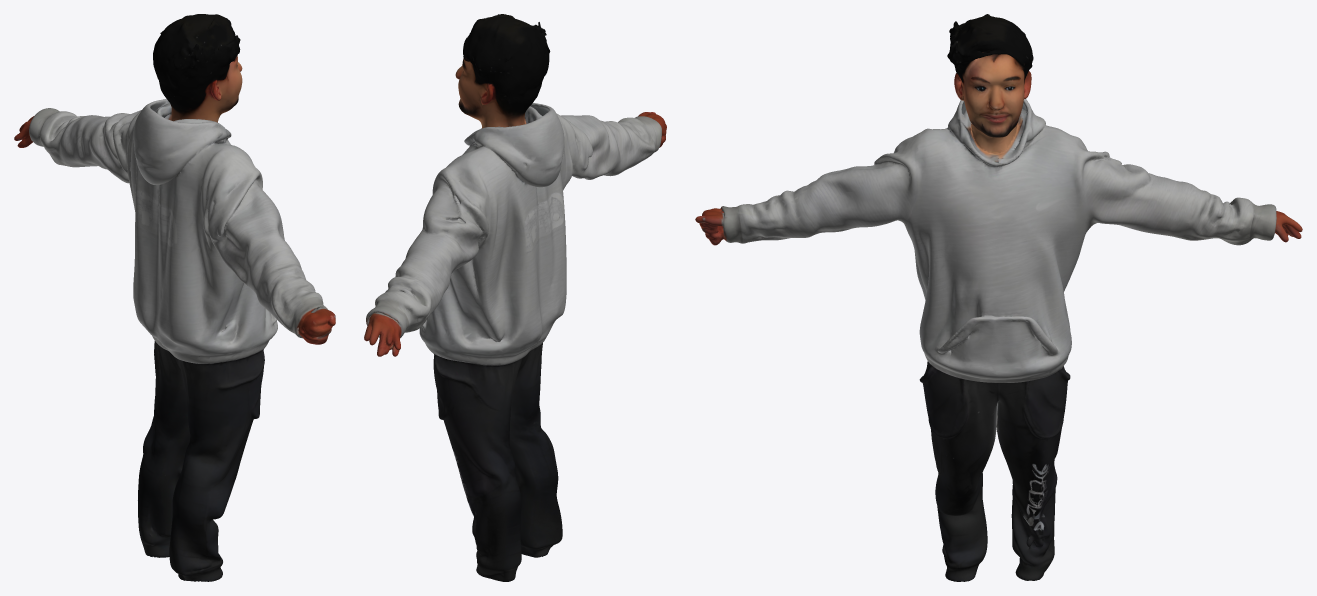
File: tripo_pbr_model_703f4065-d560-_7a1d4ddc_opt.glb
3 renders of one model, left to right at view 1: azimuth 30°, elevation 25°; view 2: azimuth 150°, elevation 25°; view 3: azimuth 270°, elevation 25°, orthographic. The views are drawn at different scales.
Parts seen in each view (by area): view 1: tripo_node_703f4065-d560-4aee-9be6-2f1bbfba7351; view 2: tripo_node_703f4065-d560-4aee-9be6-2f1bbfba7351; view 3: tripo_node_703f4065-d560-4aee-9be6-2f1bbfba7351.
Part boxes in pixels (x1,y1,x2,y2): tripo_node_703f4065-d560-4aee-9be6-2f1bbfba7351: [14, 14, 335, 581]; tripo_node_703f4065-d560-4aee-9be6-2f1bbfba7351: [364, 14, 666, 581]; tripo_node_703f4065-d560-4aee-9be6-2f1bbfba7351: [695, 14, 1302, 581].
Bounding box in the file's own units: 0.2439 × 1 × 0.9862.
1 material, 1 textured.
